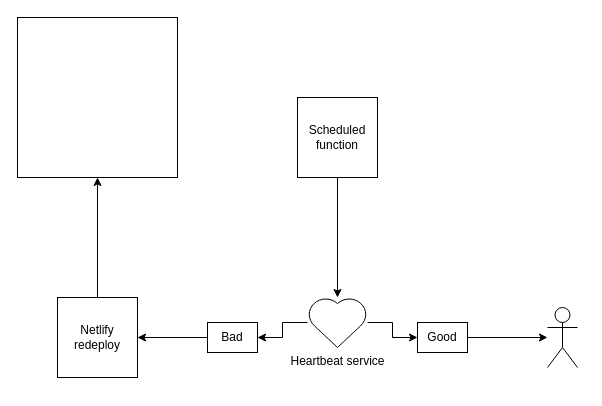
This 602x406 diagram has some shape labels left out. Here are the shapes that lost their labels. From the top down, the box of each, then its label:
(16, 16, 178, 178): Next app
(546, 306, 578, 368): Success
